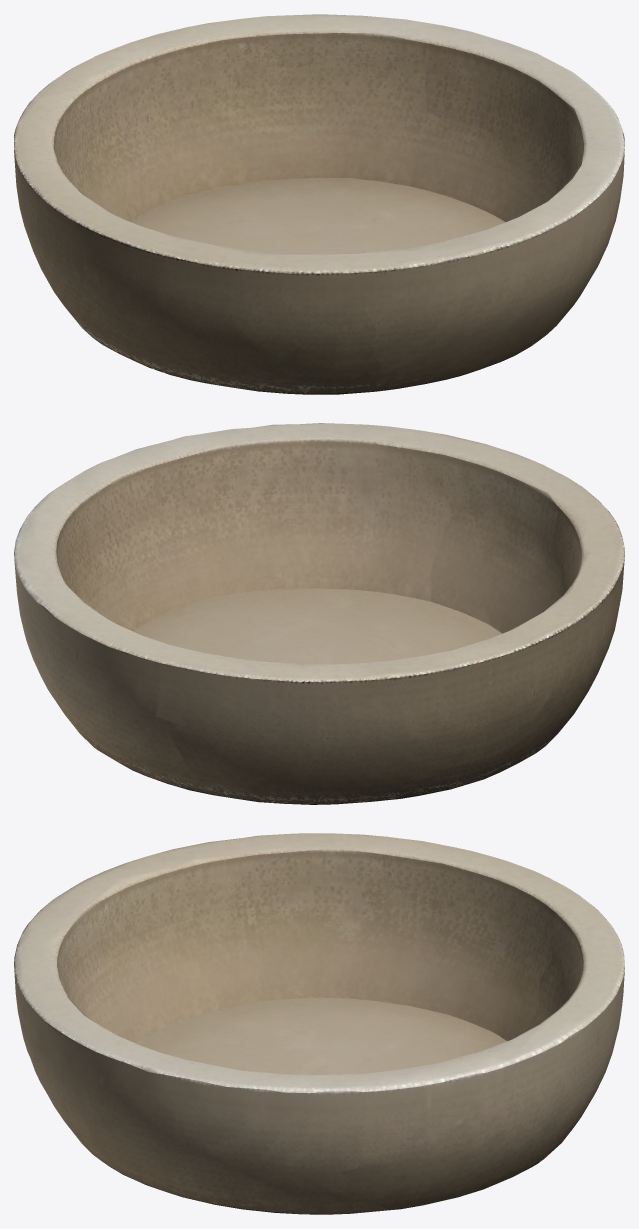
3 views of the same model, one above another, from view 1: azimuth 30°, elevation 25°; view 2: azimuth 150°, elevation 25°; view 3: azimuth 270°, elevation 25° (orthographic).
Visible parts, largest first — view 1: planter-concrete; view 2: planter-concrete; view 3: planter-concrete.
Boxes of the visible parts, x1,y1,x2,y2 form: planter-concrete: (14, 14, 624, 394); planter-concrete: (14, 423, 624, 804); planter-concrete: (14, 833, 624, 1214).
Bounding box in the file's own units: 1.7 × 0.4503 × 1.7.
Materials: 1 (1 with a texture image).
